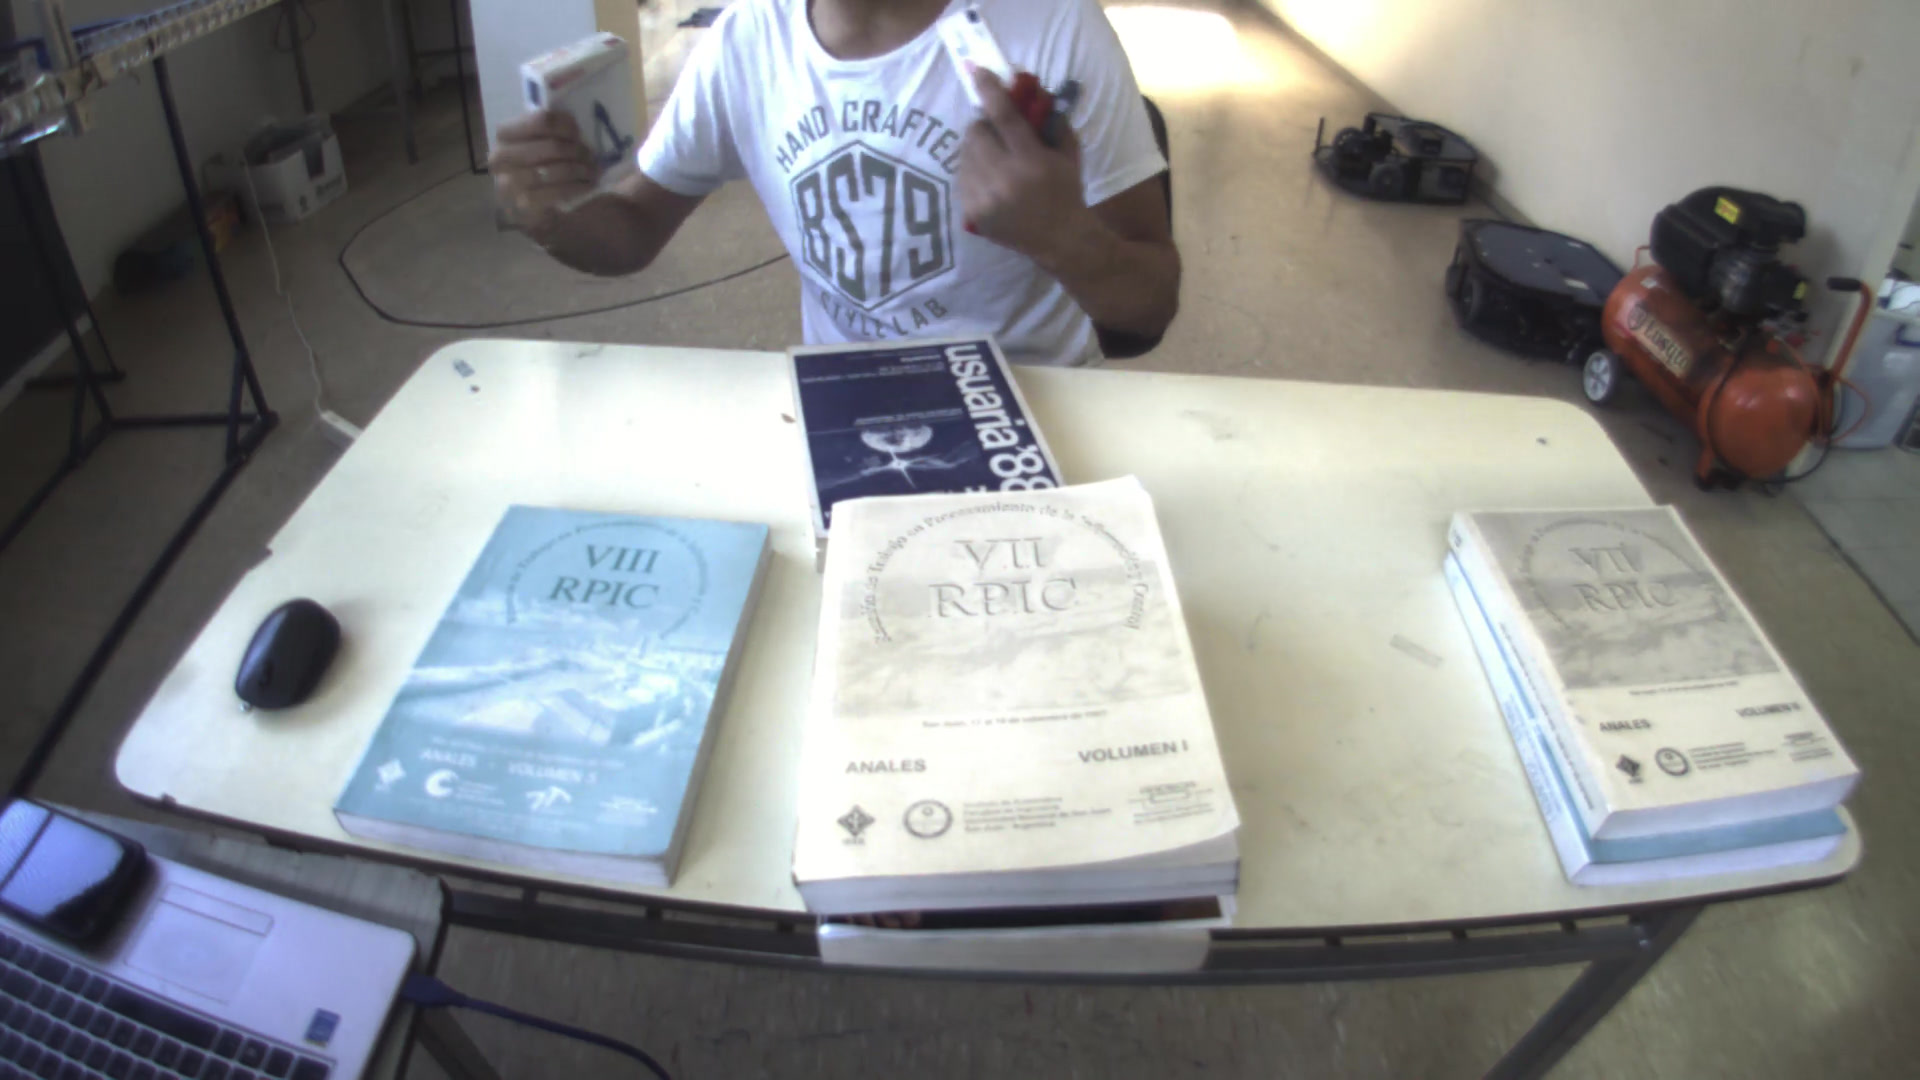hand: (936, 69, 1095, 237), (467, 102, 596, 233)
